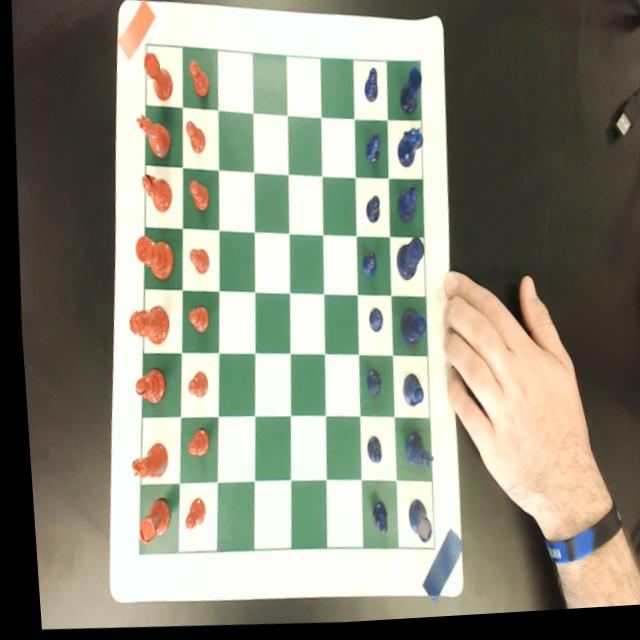B: (392, 190, 417, 228), (396, 376, 420, 413)
K: (390, 240, 422, 286)
N: (393, 128, 422, 173), (397, 432, 428, 474)
P: (361, 134, 379, 172), (362, 504, 381, 540), (361, 70, 378, 108), (360, 197, 379, 229), (362, 309, 381, 339), (358, 371, 377, 401), (359, 438, 376, 469), (357, 254, 374, 282)
Q: (394, 312, 423, 350)
R: (399, 501, 429, 549), (395, 71, 424, 119)
b: (137, 173, 171, 216), (128, 369, 161, 407)
k: (130, 235, 172, 283)
n: (132, 112, 170, 161), (123, 441, 164, 481)
p: (186, 60, 209, 102), (176, 497, 199, 534), (182, 120, 205, 156), (184, 178, 207, 214), (180, 428, 204, 460), (182, 306, 206, 336), (184, 248, 206, 278), (181, 371, 203, 400)
q: (123, 306, 166, 349)
r: (128, 497, 165, 548), (140, 52, 173, 104)
